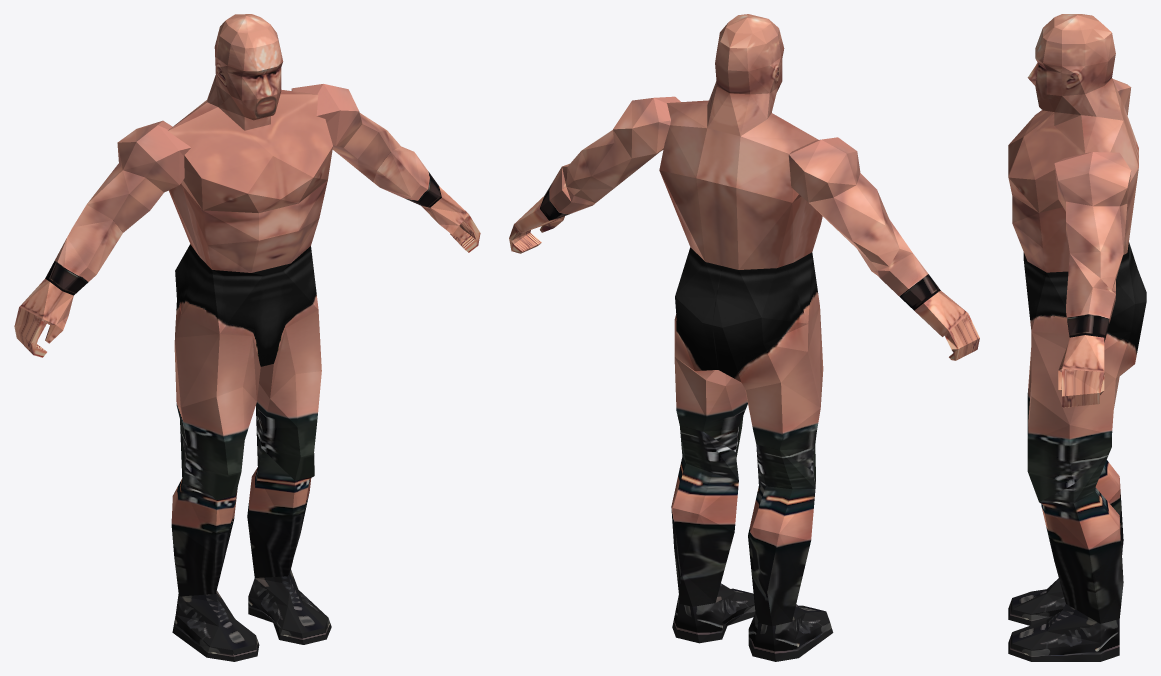
The model's file is austin.obj.
The picture shows the model from 3 angles, left to right: view 1: azimuth 30°, elevation 25°; view 2: azimuth 150°, elevation 25°; view 3: azimuth 270°, elevation 25°; orthographic projection.
Visible parts, largest first — view 1: chest, leg_upper_left, pelvis, Leg_upper_right, torso, arm_left, leg_lower_left, leg_lower_right, arm_right, face, foot_left, foot_right (+7 smaller); view 2: pelvis, back_lower, leg_lower_right, leg_lower_left, back_upper, arm_left, head, leg_upper_left, arm_right, Leg_upper_right, foot_left, foot_right (+6 smaller); view 3: Leg_upper_right, leg_lower_right, arm_right, pelvis, chest, head, foot_right, torso, wrist_right, face, back_upper, foot_left (+5 smaller).
Part boxes in pixels (box(x1,y1,x2,y2)): chest: box(168, 94, 332, 212); leg_upper_left: box(174, 316, 256, 499); pelvis: box(175, 244, 318, 400); Leg_upper_right: box(256, 310, 321, 480); torso: box(182, 180, 327, 272); arm_left: box(73, 120, 191, 232); leg_lower_left: box(171, 421, 237, 596); leg_lower_right: box(247, 404, 314, 577); arm_right: box(291, 84, 400, 181); face: box(227, 24, 283, 120); foot_left: box(172, 590, 259, 661); foot_right: box(248, 570, 331, 644); pelvis: box(674, 247, 819, 389); back_lower: box(659, 170, 806, 269); leg_lower_right: box(671, 426, 738, 606); leg_lower_left: box(748, 444, 815, 626); back_upper: box(659, 100, 818, 202); arm_left: box(788, 137, 899, 271); head: box(707, 14, 781, 136); leg_upper_left: box(745, 306, 823, 478); arm_right: box(566, 96, 680, 202); Leg_upper_right: box(674, 357, 747, 458); foot_left: box(748, 604, 833, 661); foot_right: box(672, 583, 755, 643); Leg_upper_right: box(1027, 332, 1119, 502); leg_lower_right: box(1039, 447, 1123, 623); arm_right: box(1054, 152, 1131, 290); pelvis: box(1023, 242, 1146, 378); chest: box(1008, 96, 1084, 212); head: box(1054, 14, 1123, 120); foot_right: box(1008, 604, 1119, 661); torso: box(1012, 195, 1069, 272); wrist_right: box(1066, 253, 1115, 342); face: box(1027, 18, 1061, 111); back_upper: box(1081, 105, 1138, 182); foot_left: box(1008, 578, 1065, 625).
Size of the model in its own units: 2.18 by 2.83 by 0.576.
Materials: 13 (13 with a texture image).
